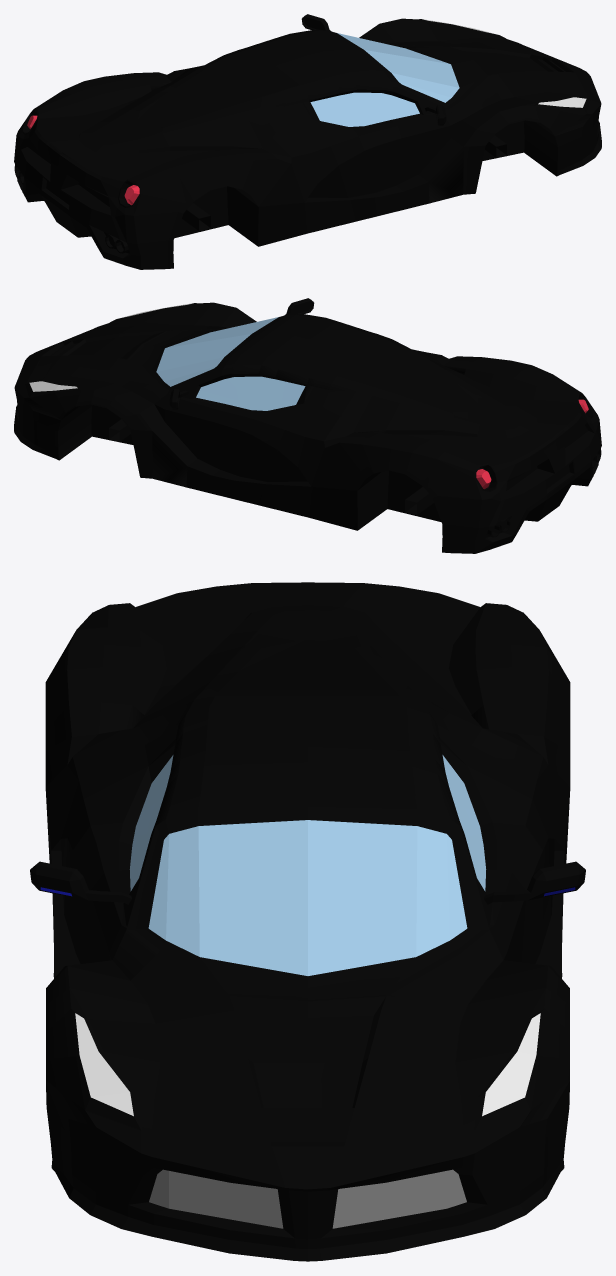
File: ModernCar.fbx
3 renders of one model, top to bottom at view 1: azimuth 30°, elevation 25°; view 2: azimuth 150°, elevation 25°; view 3: azimuth 270°, elevation 25°, orthographic. The views are drawn at different scales.
Visible parts, largest first — view 1: ModernCar; view 2: ModernCar; view 3: ModernCar.
Part boxes in pixels (x1,y1,x2,y2): ModernCar: [14, 14, 601, 269]; ModernCar: [14, 298, 601, 553]; ModernCar: [30, 582, 585, 1261].
Bounding box in the file's own units: 17.5 × 3.75 × 7.91.
